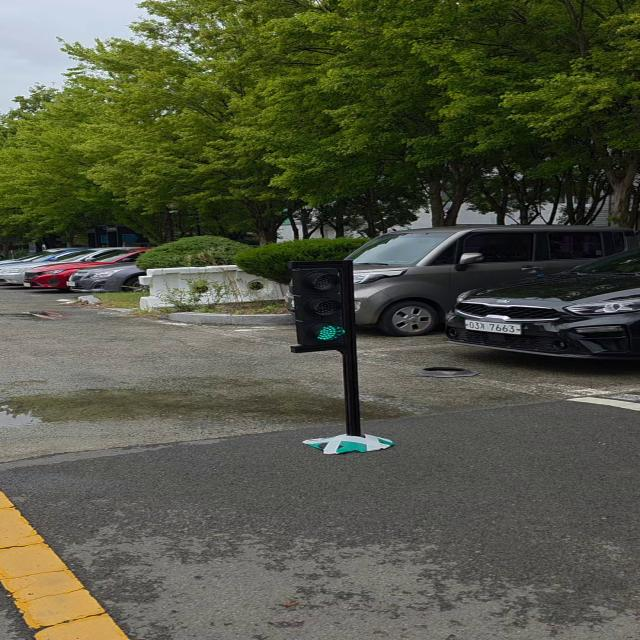green: (294, 261, 356, 351)
